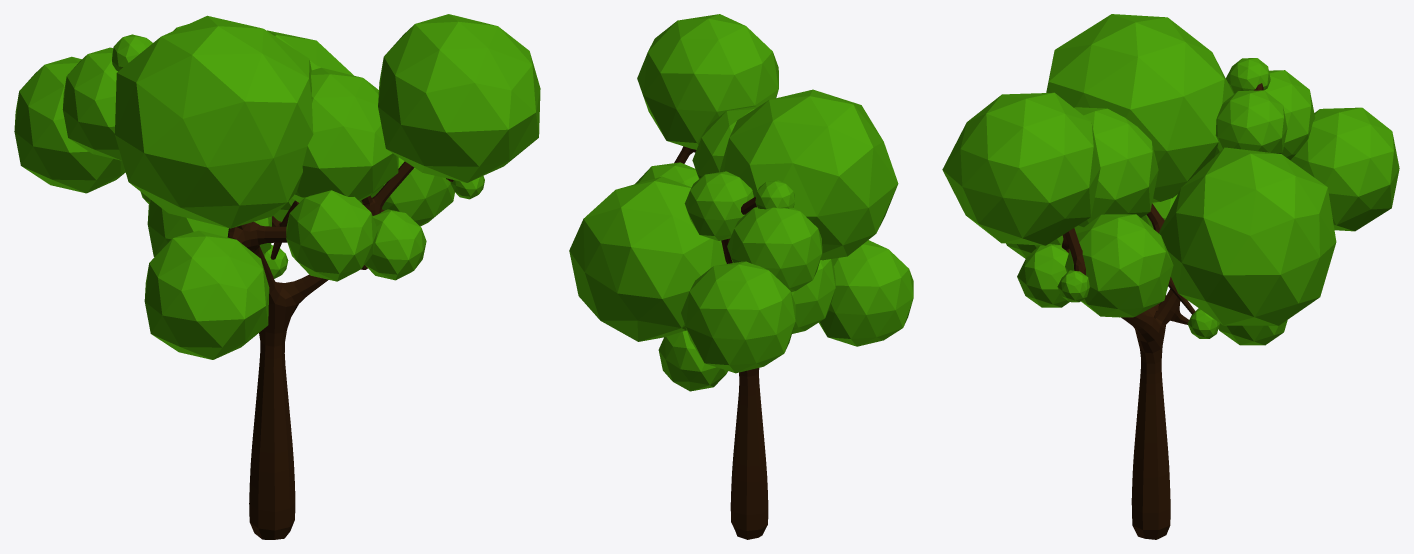
File: tree2.fbx
3 renders of one model, left to right at view 1: azimuth 30°, elevation 25°; view 2: azimuth 150°, elevation 25°; view 3: azimuth 270°, elevation 25°, orthographic. The views are drawn at different scales.
Parts seen in each view (by area): view 1: Icosphere.004, Icosphere.009, Icosphere.010, Plane, Icosphere, Icosphere.006, Icosphere.013, Icosphere.005, Icosphere.012, Icosphere.001, Icosphere.015, Icosphere.002 (+1 smaller); view 2: Icosphere.004, Icosphere.002, Icosphere.009, Icosphere.006, Icosphere.010, Plane, Icosphere.005, Icosphere.011, Icosphere.007, Icosphere.015, Icosphere, Icosphere.003 (+1 smaller); view 3: Icosphere.002, Icosphere.004, Icosphere.009, Icosphere.006, Plane, Icosphere.001, Icosphere, Icosphere.011, Icosphere.012, Icosphere.005, Icosphere.003, Icosphere.007 (+2 smaller).
Part boxes in pixels (x1,y1,x2,y2): Icosphere.004: (115, 15, 313, 228); Icosphere.009: (378, 14, 540, 182); Icosphere.010: (144, 230, 269, 359); Plane: (227, 161, 453, 539); Icosphere: (292, 67, 398, 202); Icosphere.006: (14, 56, 125, 193); Icosphere.013: (286, 190, 377, 281); Icosphere.005: (62, 47, 122, 160); Icosphere.012: (365, 209, 426, 280); Icosphere.001: (360, 157, 454, 226); Icosphere.015: (147, 199, 271, 256); Icosphere.002: (267, 30, 353, 221); Icosphere.004: (720, 89, 898, 260); Icosphere.002: (569, 176, 726, 341); Icosphere.009: (637, 14, 778, 149); Icosphere.006: (681, 261, 795, 373); Icosphere.010: (818, 240, 913, 346); Plane: (674, 146, 768, 539); Icosphere.005: (727, 207, 822, 291); Icosphere.011: (684, 171, 753, 240); Icosphere.007: (658, 330, 727, 391); Icosphere.015: (791, 259, 835, 333); Icosphere: (692, 106, 758, 178); Icosphere.003: (755, 180, 794, 209); Icosphere.002: (1158, 147, 1336, 325); Icosphere.004: (1046, 14, 1233, 202); Icosphere.009: (942, 92, 1100, 245); Icosphere.006: (1290, 107, 1399, 231); Plane: (1061, 83, 1263, 539); Icosphere.001: (1065, 214, 1173, 317); Icosphere: (1074, 107, 1158, 232); Icosphere.011: (1215, 90, 1287, 153); Icosphere.012: (1017, 244, 1069, 307); Icosphere.005: (1264, 70, 1315, 160); Icosphere.003: (1226, 58, 1270, 93); Icosphere.007: (1218, 320, 1287, 345).
Size of the model in its own units: 1510 by 2275 by 1915.
